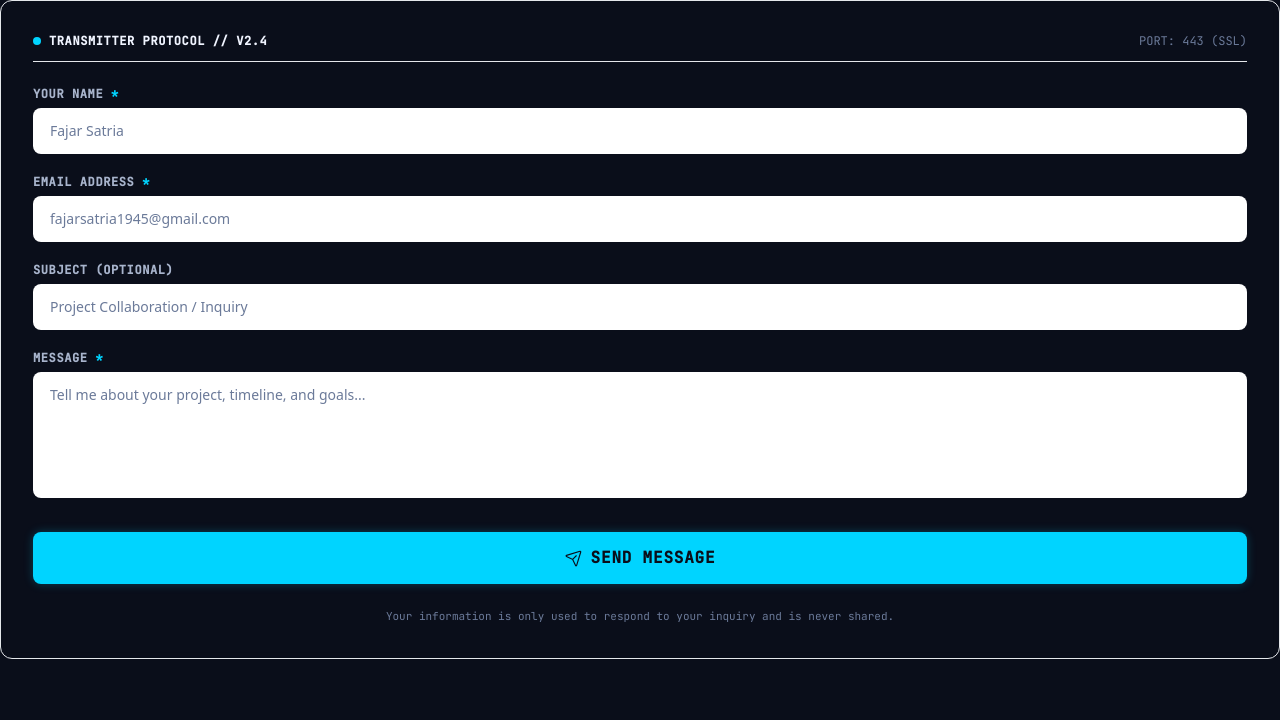
Test: ContactForm Component › validates invalid email format (TC-011)
The width and height of the screenshot is (1280, 720).
Type "John Doe" into the field labelled "Your Name *" at (640, 131), box [33, 108, 1247, 154]
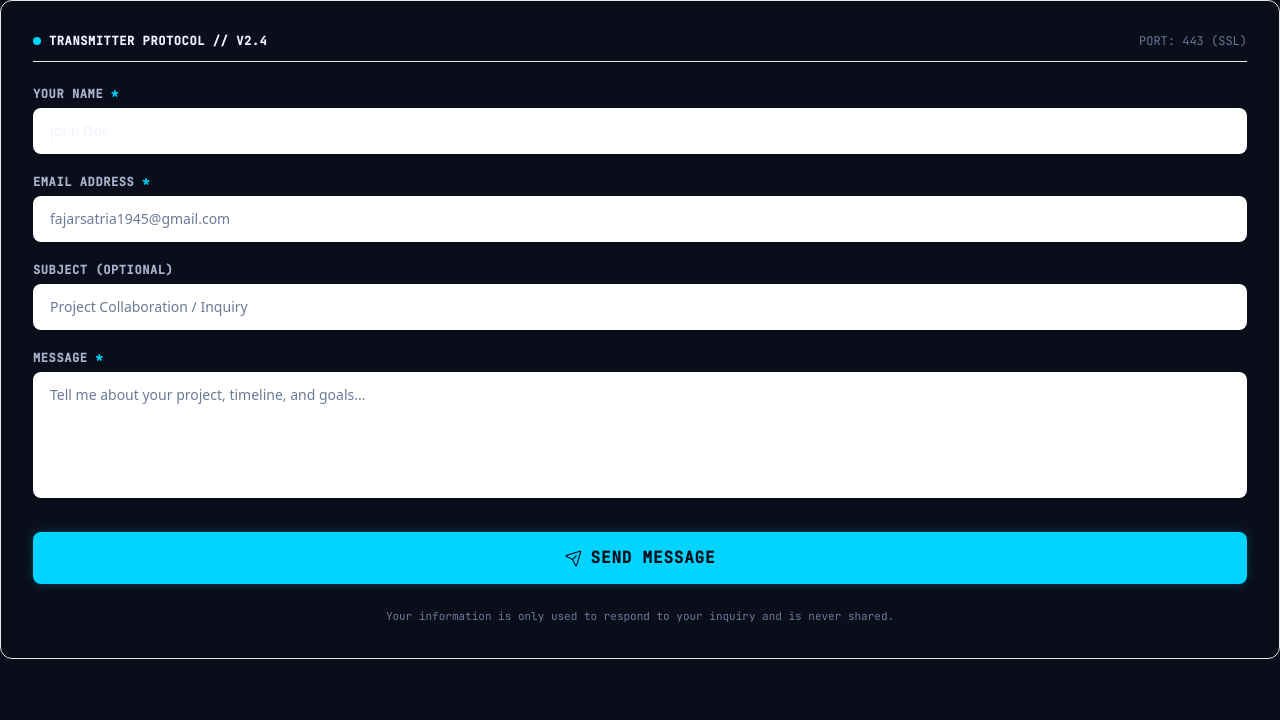
Type "invalid-email-address" into the field labelled "Email Address *" at (640, 219), box [33, 196, 1247, 242]
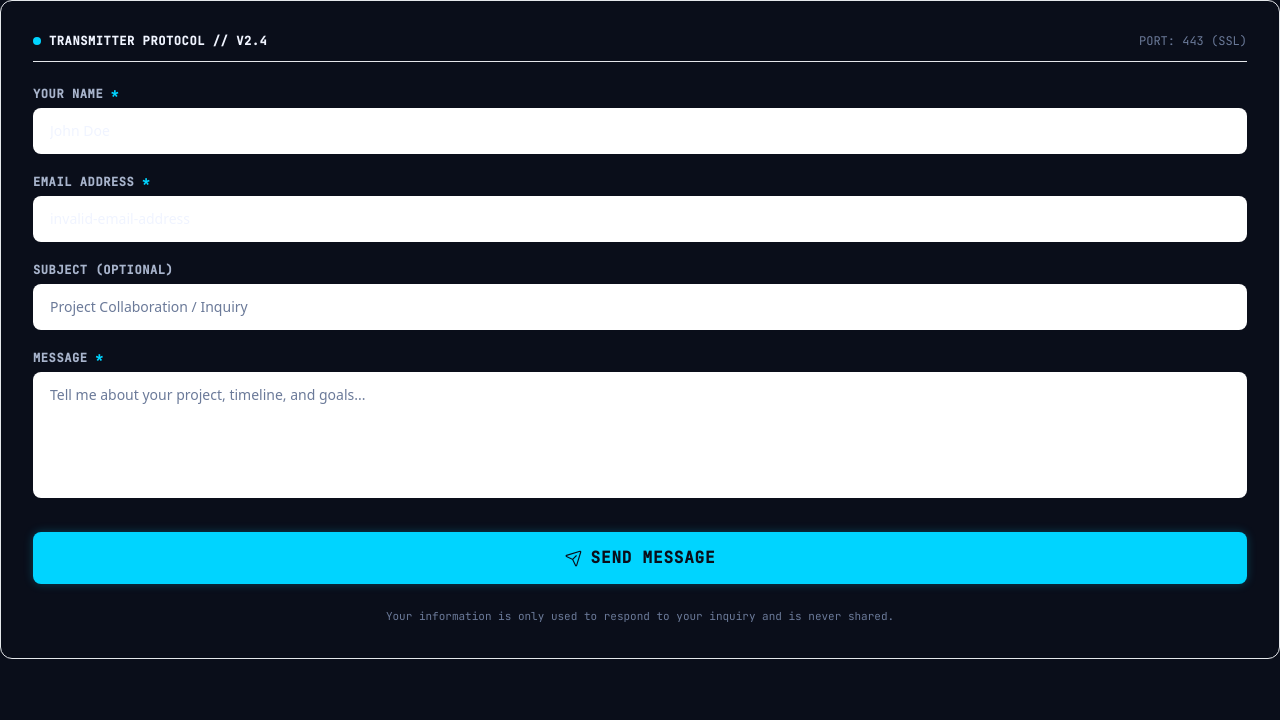
Type "This is a valid test message for collaboration." into the text box labelled "Message *" at (640, 435), box [33, 372, 1247, 498]
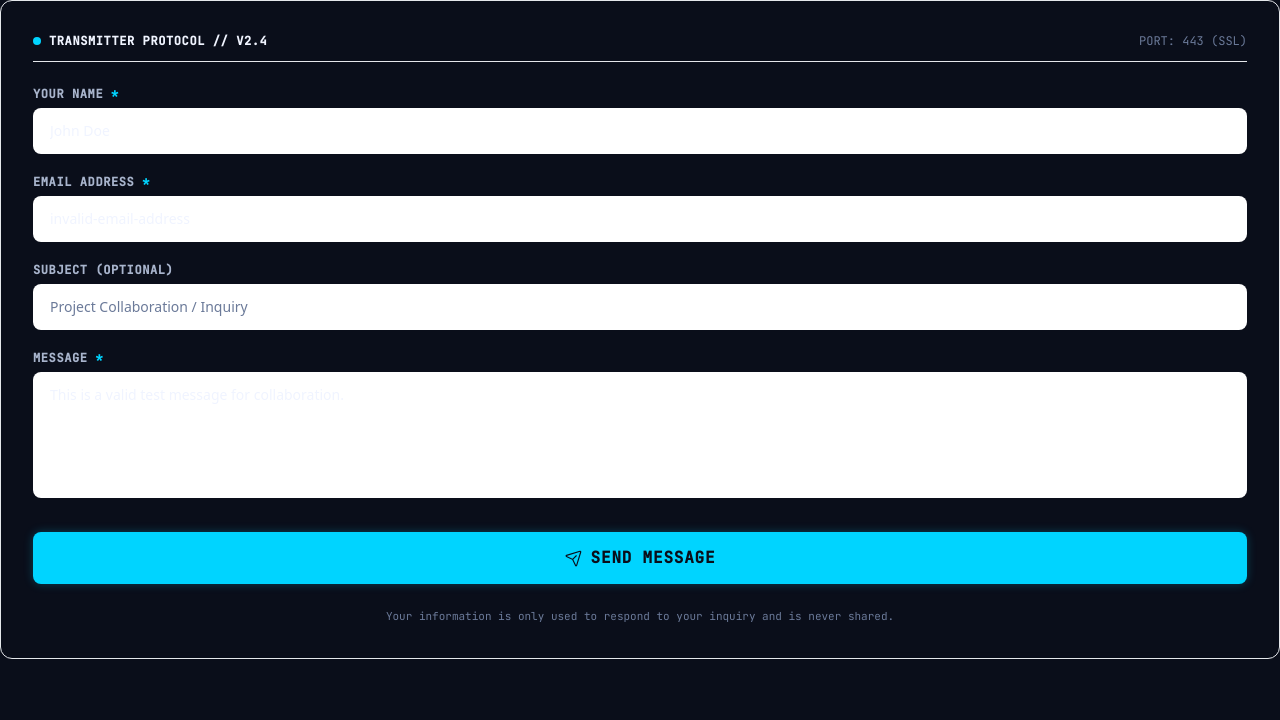
Click the button "Send Message" at (640, 558), box [33, 532, 1247, 584]
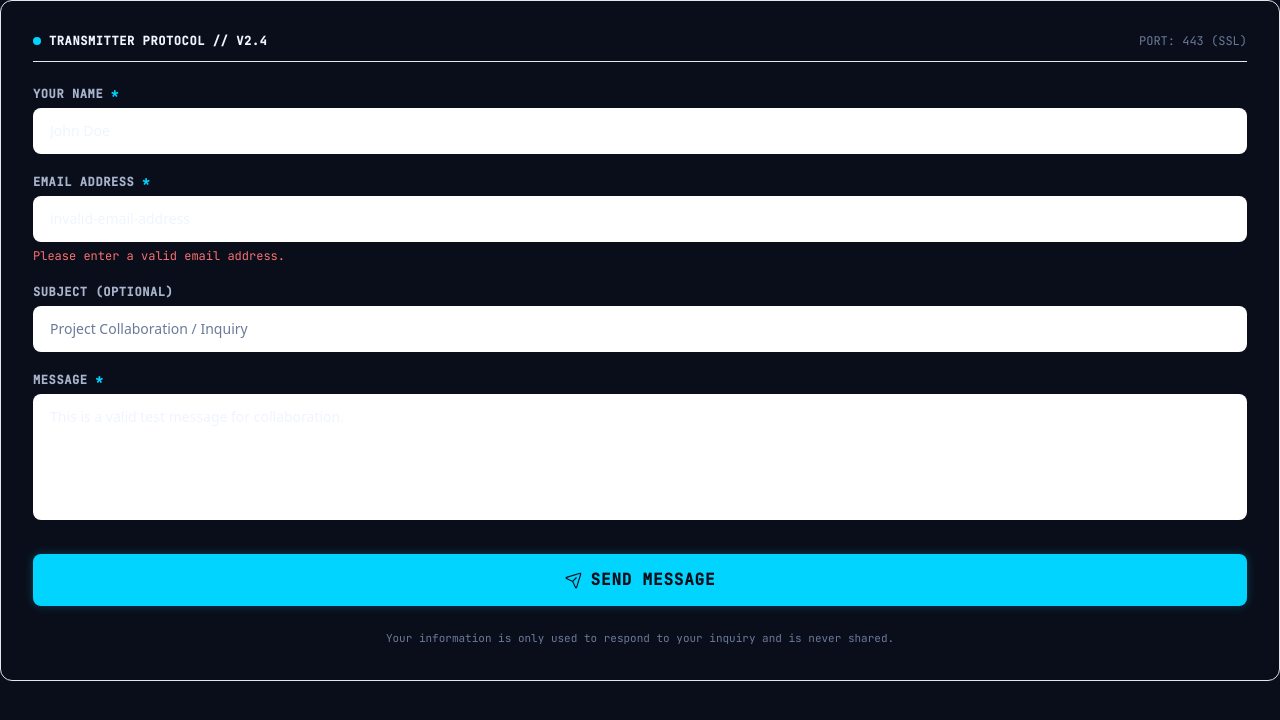
Now the text "Please enter a valid email address." is shown, box [33, 248, 285, 264]
